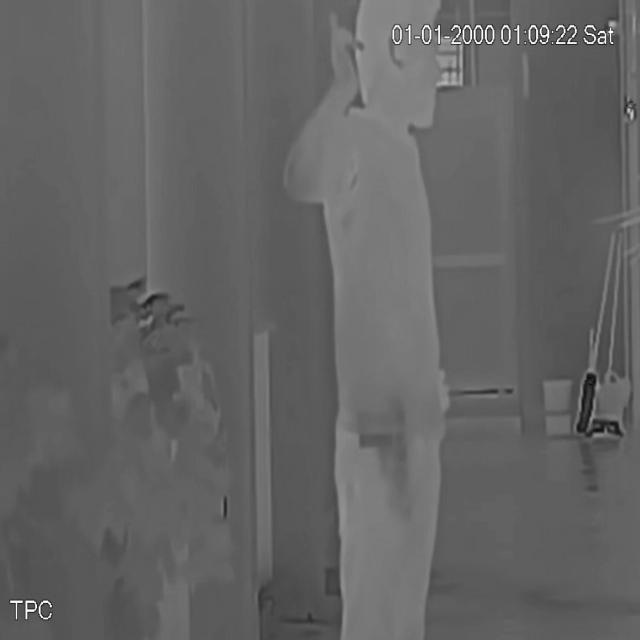Weapon: (353, 398, 432, 530)
